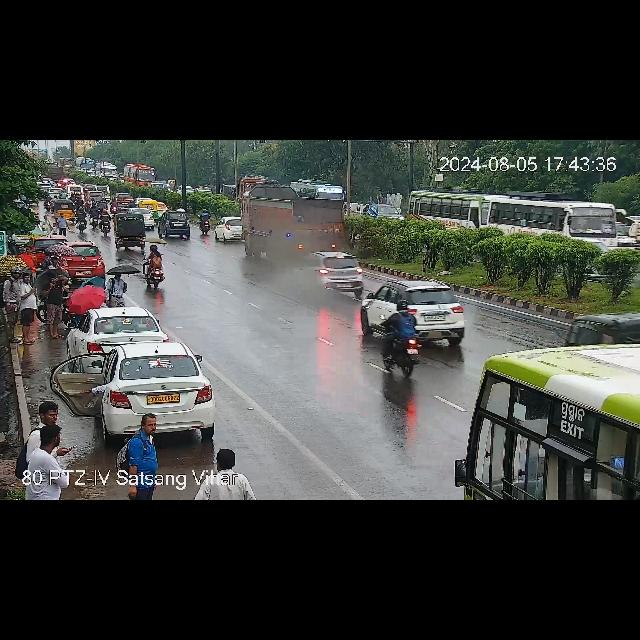bus: (452, 336, 640, 499), (402, 193, 622, 245), (122, 163, 158, 187), (95, 161, 116, 179), (76, 156, 94, 176)
car: (98, 344, 214, 438), (359, 280, 471, 336), (77, 308, 161, 350), (114, 210, 150, 248), (158, 211, 192, 237), (212, 216, 244, 240), (54, 199, 74, 221), (142, 198, 158, 222), (630, 218, 640, 244), (41, 184, 61, 196), (116, 192, 132, 202)
motorcycle: (378, 299, 424, 376), (98, 201, 114, 235), (197, 210, 213, 238), (90, 204, 104, 228), (77, 208, 86, 232), (72, 192, 86, 204), (43, 192, 51, 210), (111, 197, 117, 213)
person: (130, 409, 164, 468), (16, 268, 38, 346), (36, 398, 66, 454), (2, 262, 20, 344), (46, 274, 64, 342), (142, 245, 166, 287), (107, 274, 127, 306), (56, 212, 70, 236), (21, 244, 35, 266), (44, 254, 60, 270), (43, 216, 51, 234), (51, 221, 59, 233)
truck: (245, 182, 349, 256), (198, 448, 258, 498), (304, 252, 364, 290), (56, 158, 76, 168)
